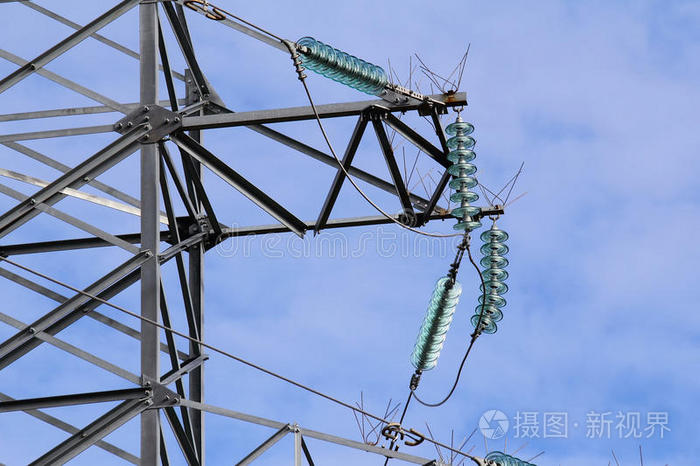insulator: (294, 36, 387, 95), (442, 119, 483, 236), (411, 278, 462, 368), (472, 227, 510, 334)
